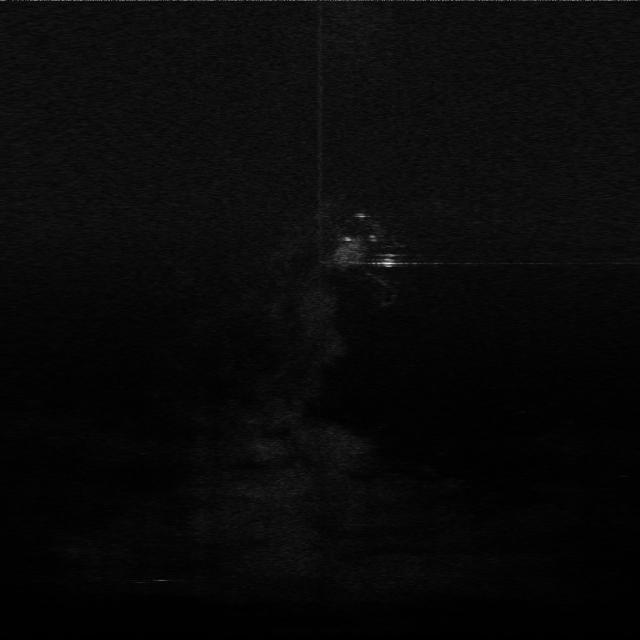rov: (376, 250, 400, 270)
